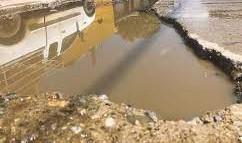pothole: (0, 0, 237, 128)
